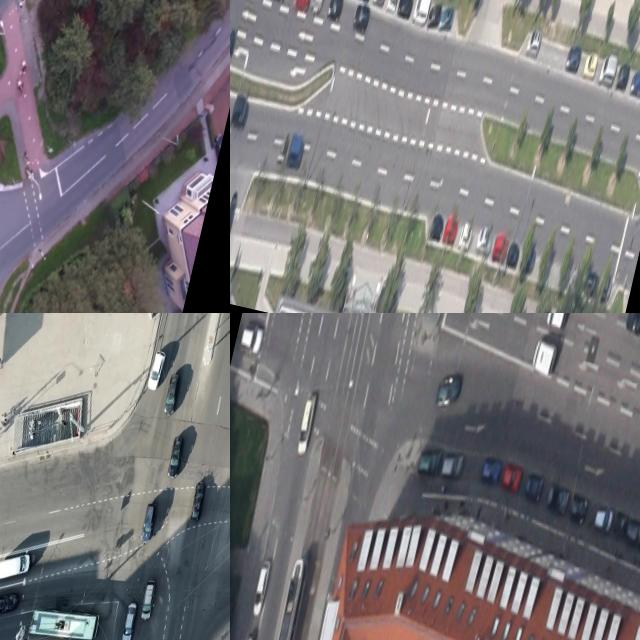UAI: (293, 392, 318, 457), (433, 369, 464, 412), (249, 561, 271, 616), (161, 374, 182, 417), (166, 435, 186, 480), (138, 578, 158, 621), (545, 482, 571, 515), (188, 480, 208, 522), (238, 323, 265, 354), (416, 446, 443, 477), (139, 502, 158, 544), (522, 469, 545, 503), (119, 601, 139, 640), (146, 350, 165, 390), (566, 493, 589, 526), (285, 132, 306, 168), (230, 93, 251, 128), (597, 52, 618, 87), (499, 463, 523, 493), (479, 456, 502, 486), (351, 1, 372, 33), (441, 451, 465, 479), (592, 505, 615, 534), (474, 225, 494, 257), (0, 588, 20, 619), (491, 232, 510, 263), (611, 509, 630, 540), (581, 48, 599, 78), (524, 27, 542, 57), (623, 517, 640, 548), (564, 42, 582, 71), (457, 220, 474, 250), (614, 62, 631, 92), (411, 0, 432, 24), (429, 212, 446, 241), (442, 215, 459, 244), (505, 239, 522, 268), (438, 4, 455, 32), (230, 188, 239, 240), (623, 313, 640, 337), (427, 2, 442, 29), (325, 0, 344, 21), (275, 137, 289, 165), (544, 313, 568, 329), (628, 67, 640, 96), (396, 0, 414, 19), (292, 0, 314, 12), (309, 0, 324, 14), (230, 29, 237, 58), (384, 0, 399, 13), (226, 313, 230, 355)
car: (28, 601, 100, 640)
harvester: (529, 334, 560, 377), (0, 547, 32, 587)
